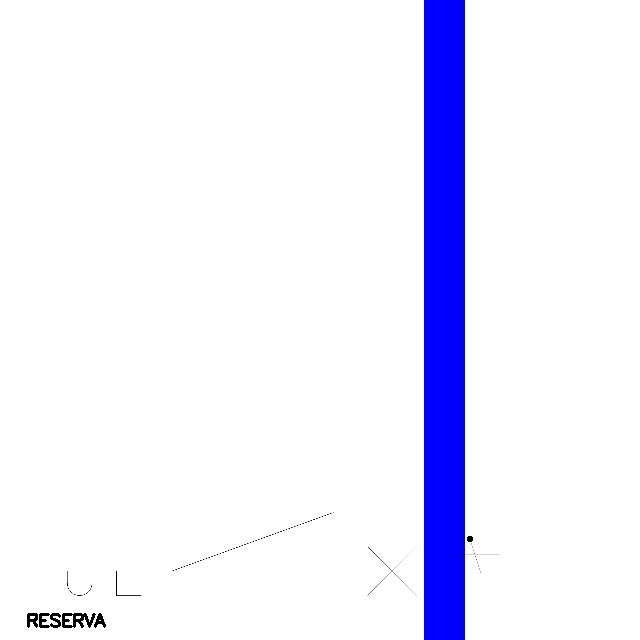interruptor_termomagnetico: (26, 502, 452, 606)
